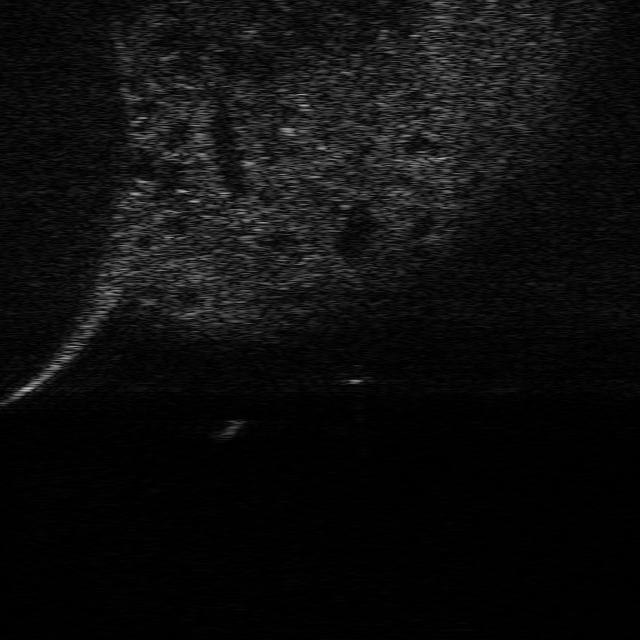cube: (331, 364, 374, 388)
cylinder: (213, 416, 245, 445)
